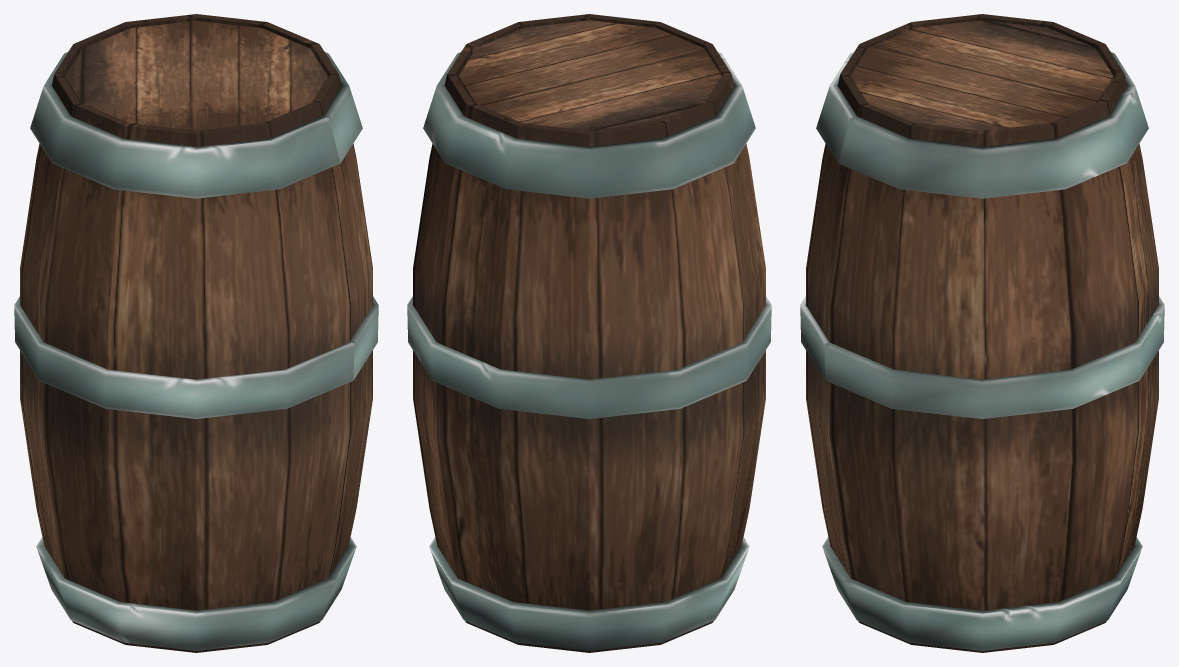
File: barrel_005.fbx
3 renders of one model, left to right at view 1: azimuth 30°, elevation 25°; view 2: azimuth 150°, elevation 25°; view 3: azimuth 270°, elevation 25°, orthographic.
Visible parts, largest first — view 1: barrel_0051; view 2: barrel_0051; view 3: barrel_0051.
Part boxes in pixels (x1,y1,x2,y2): barrel_0051: (14, 14, 378, 652); barrel_0051: (407, 14, 771, 652); barrel_0051: (800, 14, 1164, 652).
Bounding box in the file's own units: 32.04 × 50.3 × 32.04.
